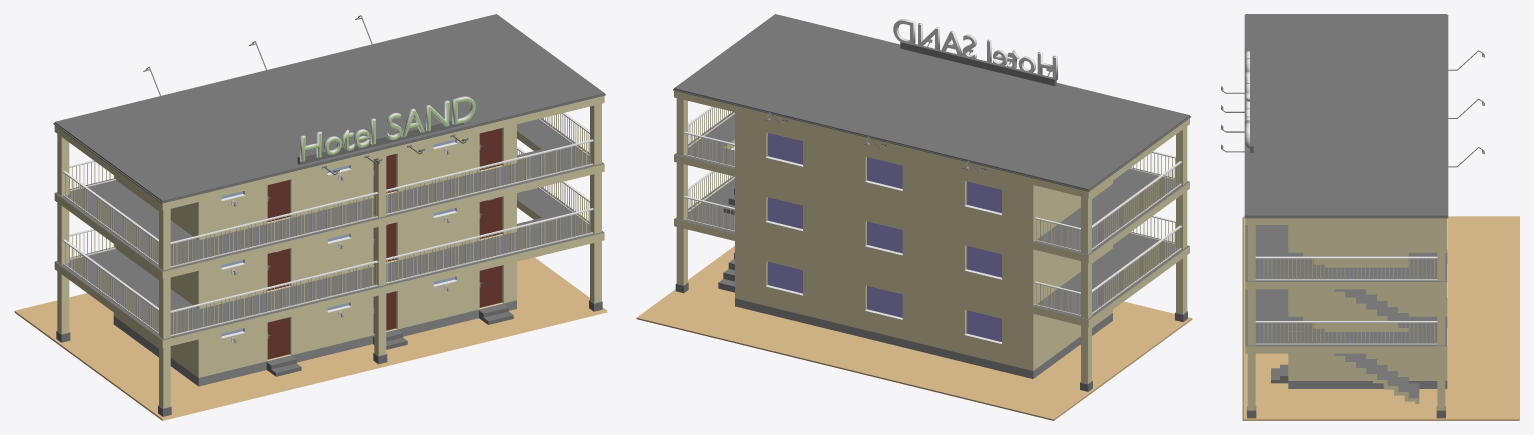
Rendered from HotelReferenceOnly.fbx.
3 renders of one model, left to right at view 1: azimuth 30°, elevation 25°; view 2: azimuth 150°, elevation 25°; view 3: azimuth 270°, elevation 25°, orthographic. The views are drawn at different scales.
Visible parts, largest first — view 1: Cube, Cube.002, Plane.001, Cube.012, Cube.010, Cube.001, Cube.007, Cube.006, Cube.003, Cube.004, Cube.009, Cube.013 (+9 smaller); view 2: Cube, Cube.002, Plane.001, Cube.001, Cube.005, Text, Cube.003, Cube.006, Cube.030, Cube.018, Cube.017, Cube.016 (+1 smaller); view 3: Cube.002, Cube, Plane.001, Cube.008, Cube.011, Cube.005, Cube.004, Cube.021, Cube.014, Cube.001, Cube.020, Cube.015 (+3 smaller).
Boxes of the visible parts, x1,y1,x2,y2 form: Cube: (54,95,604,377); Cube.002: (53,14,605,203); Plane.001: (14,257,607,420); Cube.012: (172,142,590,266); Cube.010: (172,211,590,334); Cube.001: (113,300,516,386); Cube.007: (373,156,387,364); Cube.006: (56,134,70,342); Cube.003: (158,208,171,416); Cube.004: (589,103,602,311); Cube.009: (170,208,593,336); Cube.013: (170,139,593,267); Cube: (674,90,1189,370); Cube.002: (673,14,1191,191); Plane.001: (636,246,1192,420); Cube.001: (735,298,1112,378); Cube.005: (675,98,688,293); Text: (893,19,1057,80); Cube.003: (1175,126,1187,322); Cube.006: (1080,196,1092,391); Cube.030: (900,40,1056,86); Cube.018: (1093,165,1179,247); Cube.017: (1093,229,1179,312); Cube.016: (1092,225,1182,314); Cube.002: (1244,14,1448,218); Cube: (1245,218,1447,380); Plane.001: (1242,216,1519,420); Cube.008: (1288,316,1419,403); Cube.011: (1288,252,1408,331); Cube.005: (1436,225,1445,418); Cube.004: (1247,225,1256,418); Cube.021: (1259,258,1434,279); Cube.014: (1259,323,1434,343); Cube.001: (1288,381,1447,388); Cube.020: (1255,256,1437,280); Cube.015: (1255,321,1437,344).
Bounding box in the file's own units: 1747 × 930 × 1086.
